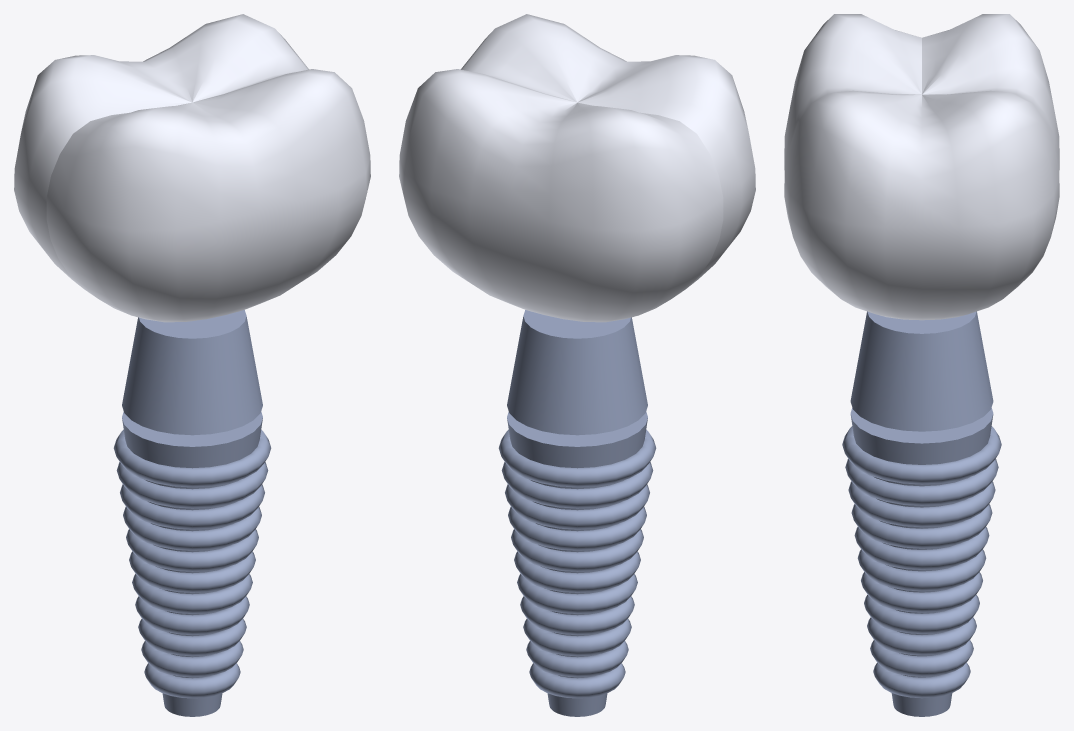
Rendered from dental-mobile.glb.
The picture shows the model from 3 angles, left to right: view 1: azimuth 30°, elevation 25°; view 2: azimuth 150°, elevation 25°; view 3: azimuth 270°, elevation 25°; orthographic projection.
Parts seen in each view (by area): view 1: crown, fixture, abutment; view 2: crown, fixture, abutment; view 3: crown, fixture, abutment.
Part boxes in pixels (x1,y1,x2,y2): crown: (14,14,370,322); fixture: (113,412,271,716); abutment: (122,310,262,435); crown: (399,14,755,322); fixture: (498,412,656,716); abutment: (507,310,647,435); crown: (784,14,1059,320); fixture: (842,408,1001,716); abutment: (850,311,993,431).
Size of the model in its own units: 1.44 by 3 by 1.16.
